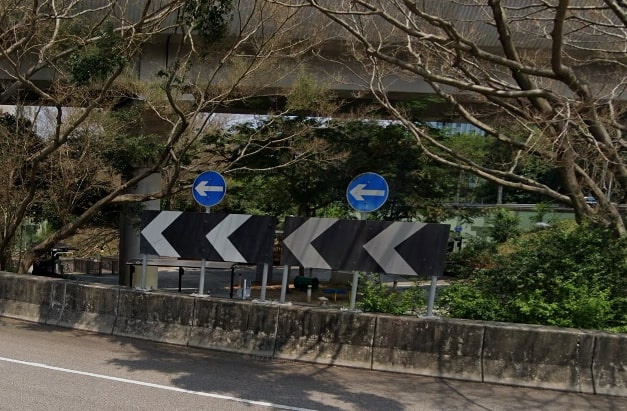Turn Left: (345, 169, 387, 214), (188, 172, 231, 208)
Turn Left(quick): (284, 214, 446, 282), (130, 208, 274, 268)
